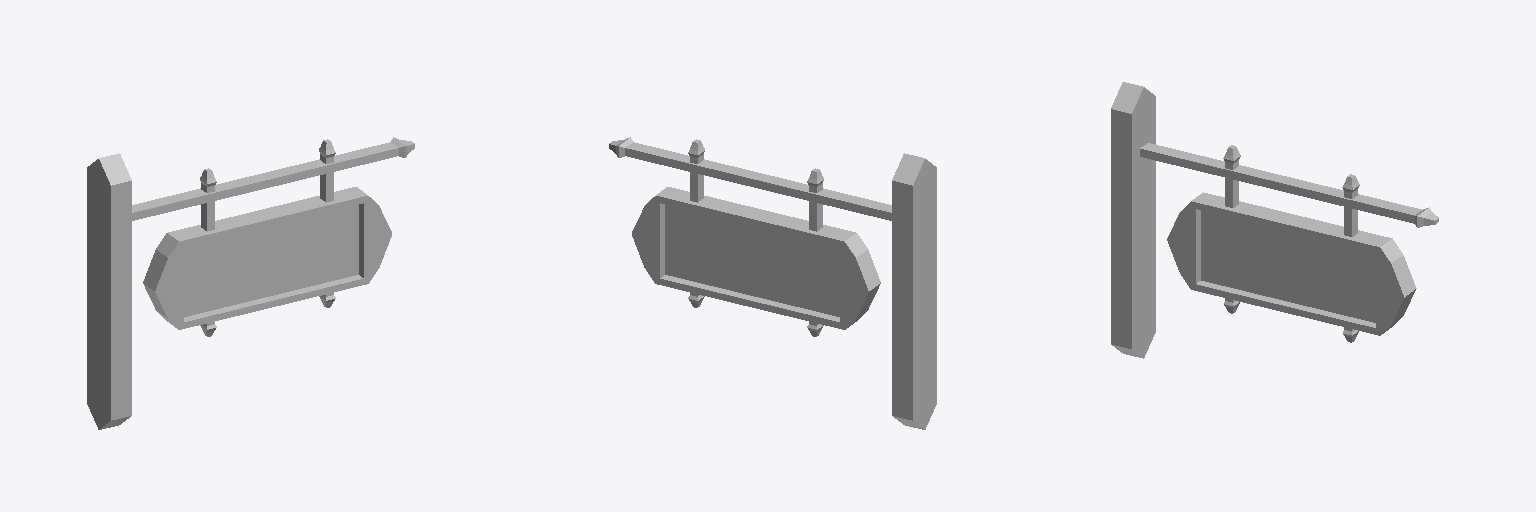
File: Room-Sign.obj
3 views of the same model, side by side, from view 1: azimuth 30°, elevation 25°; view 2: azimuth 150°, elevation 25°; view 3: azimuth 330°, elevation 25° (orthographic).
Parts seen in each view (by area): view 1: Cube, Cube.001; view 2: Cube, Cube.001; view 3: Cube, Cube.001.
Part boxes in pixels (left/top/right/bottom): Cube: left=143, top=139, right=391, bottom=336; Cube.001: left=87, top=137, right=414, bottom=429; Cube: left=632, top=139, right=880, bottom=336; Cube.001: left=609, top=137, right=936, bottom=429; Cube: left=1167, top=145, right=1416, bottom=342; Cube.001: left=1111, top=82, right=1438, bottom=358.
Bounding box in the file's own units: 14.86 × 12.29 × 2.